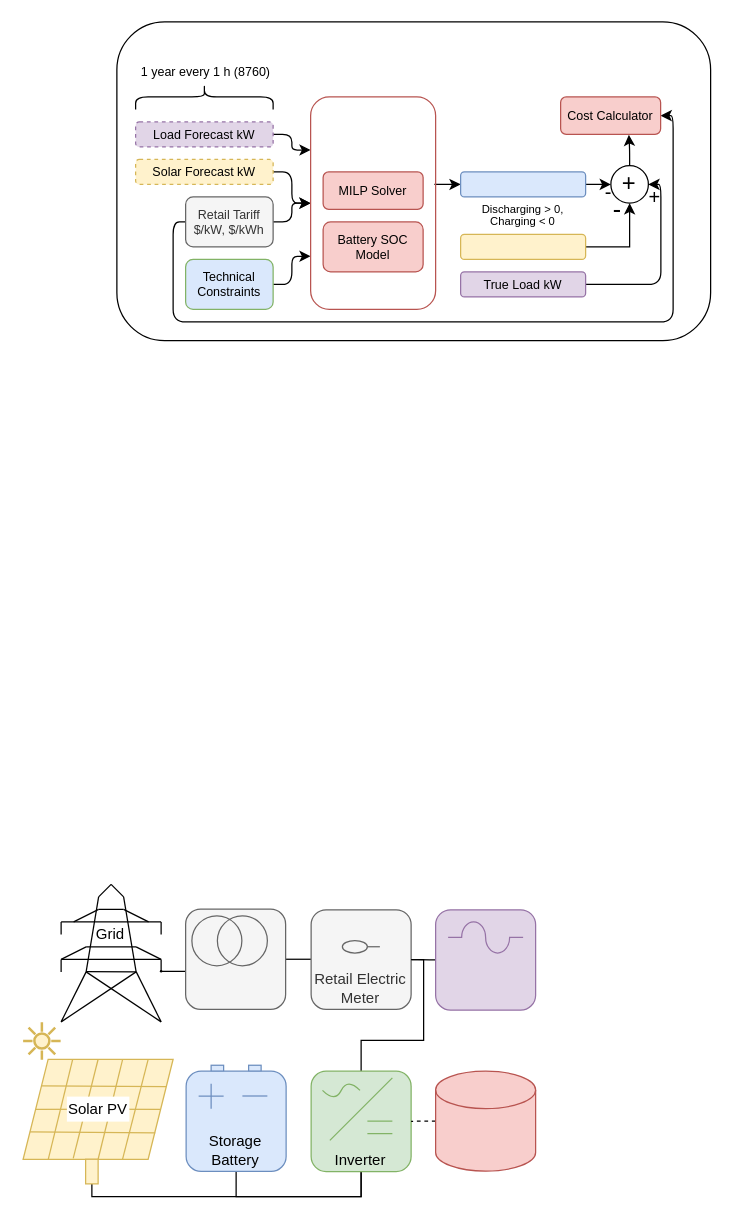
This 733x1220 diagram has some shape labels left out. The shapes that lost their labels are listed below. From the top down, each one's box as (x1, y1, x2, y2) in pixels, then its label:
(116, 21, 711, 341): Simulation: Battery Scheduling and Operation
(459, 171, 586, 197): Battery Dispatch kW
(309, 96, 436, 309): ReOpt EMS
(459, 233, 586, 259): True Solar kW
(184, 908, 286, 1009): Transformer
(434, 908, 536, 1010): Municipal Building Load
(434, 1070, 536, 1171): EMS
